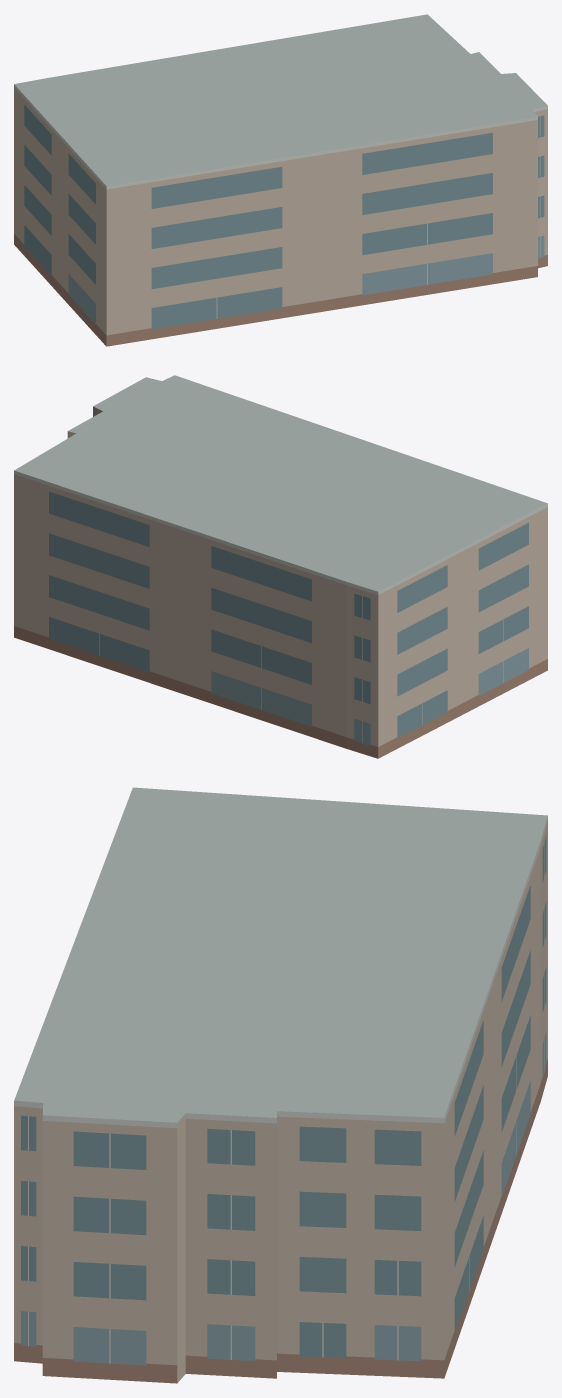
The model's file is survey-upis-32462129.glb.
3 renders of one model, top to bottom at view 1: azimuth 30°, elevation 25°; view 2: azimuth 150°, elevation 25°; view 3: azimuth 270°, elevation 25°, orthographic. The views are drawn at different scales.
Visible parts, largest first — view 1: survey-upis-32462129.tmp; view 2: survey-upis-32462129.tmp; view 3: survey-upis-32462129.tmp.
Boxes of the visible parts, <box> form: survey-upis-32462129.tmp: <box>14,14,547,346</box>; survey-upis-32462129.tmp: <box>14,375,547,758</box>; survey-upis-32462129.tmp: <box>14,787,547,1383</box>.
Bounding box in the file's own units: 32.03 × 11.6 × 21.54.
